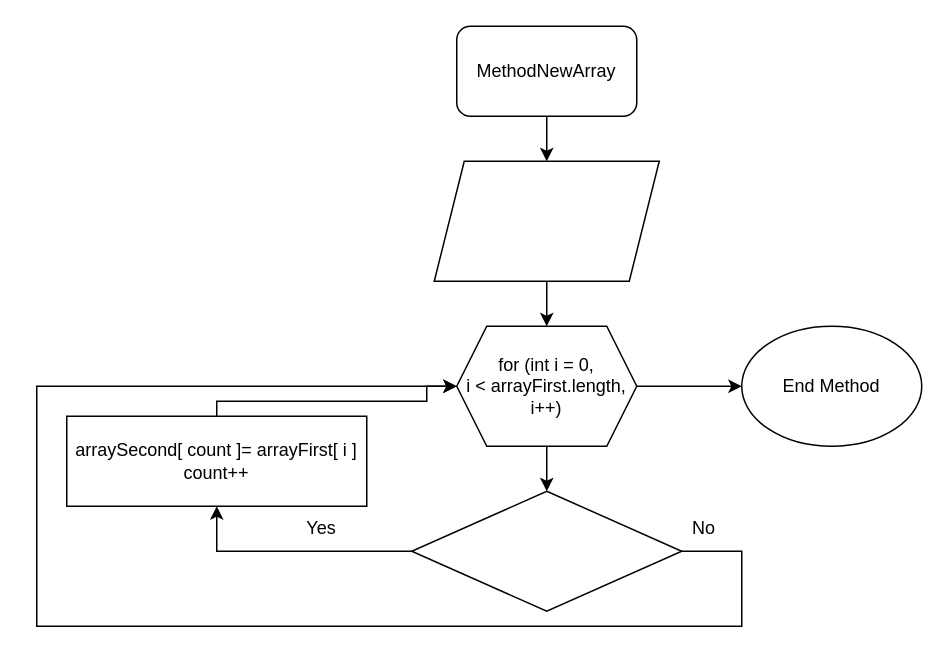
Some shapes in this 948 by 665 pixel diagram are drawn without their labels. Each missing label, with the centre of its shape:
"if (arrayFirst[i].length <= 3)" goes at pixel 546 550.
"string[] arrayFirst string[] arraySecond count=0" goes at pixel 546 220.
